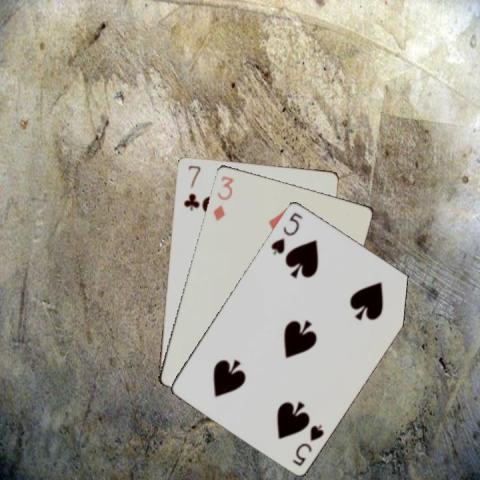3d: (209, 173, 236, 222)
5s: (267, 209, 304, 256), (290, 421, 326, 468)
7c: (181, 162, 201, 211)
